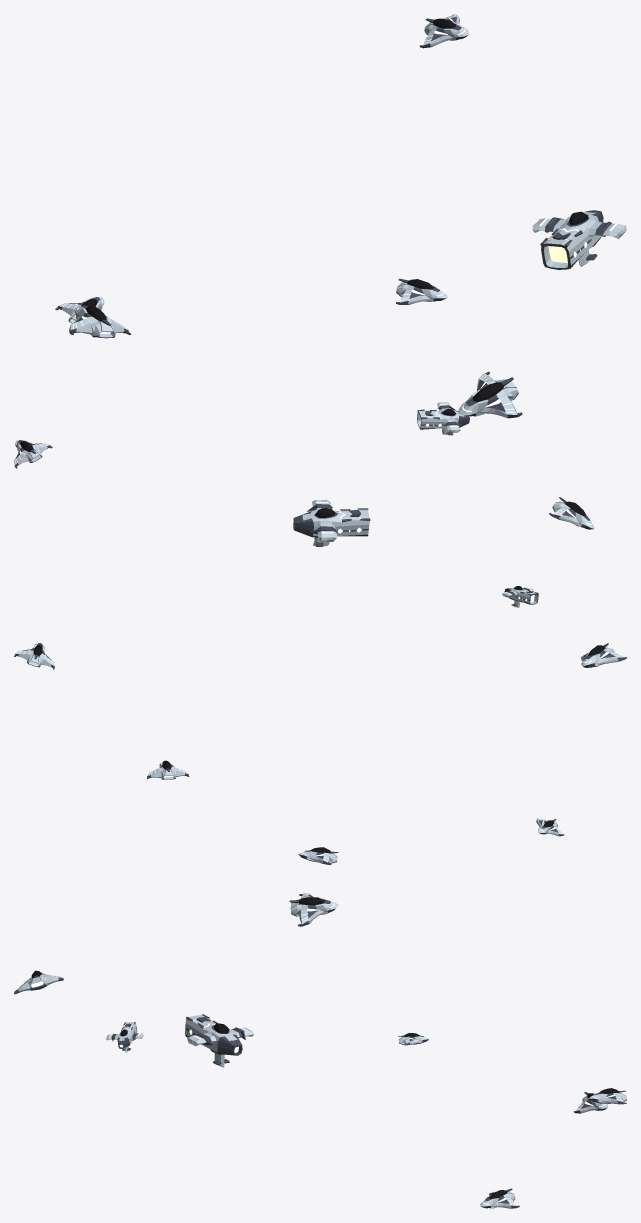
3 renders of one model, top to bottom at view 1: azimuth 30°, elevation 25°; view 2: azimuth 150°, elevation 25°; view 3: azimuth 270°, elevation 25°, orthographic. The views are drawn at different scales.
Parts seen in each view (by area): view 1: YellowCraft.001, YellowShip.004, YellowShip.002, BlueCraft.001, BlueShip.004, BlueShip; view 2: YellowCraft.001, YellowShip.004, YellowShip.002, BlueShip.004, BlueCraft.001; view 3: YellowCraft.001, YellowShip.002, BlueShip, BlueCraft.001, YellowShip.004, BlueShip.004.
Boxes of the visible parts, bbox=[...] form: YellowCraft.001: bbox=[532, 210, 626, 269]; YellowShip.004: bbox=[458, 371, 522, 418]; YellowShip.002: bbox=[69, 305, 130, 338]; BlueCraft.001: bbox=[417, 402, 469, 435]; BlueShip.004: bbox=[419, 14, 468, 48]; BlueShip: bbox=[396, 278, 447, 304]; YellowCraft.001: bbox=[293, 499, 370, 546]; YellowShip.004: bbox=[549, 497, 594, 529]; YellowShip.002: bbox=[581, 643, 626, 667]; BlueShip.004: bbox=[14, 643, 54, 669]; BlueCraft.001: bbox=[502, 586, 538, 607]; YellowCraft.001: bbox=[185, 1014, 253, 1067]; YellowShip.002: bbox=[289, 893, 338, 926]; BlueShip: bbox=[480, 1188, 519, 1208]; BlueCraft.001: bbox=[106, 1022, 143, 1052]; YellowShip.004: bbox=[14, 970, 63, 994]; BlueShip.004: bbox=[588, 1088, 626, 1104].
Bounding box in the file's own units: 8.92 × 3.37 × 10.48.
